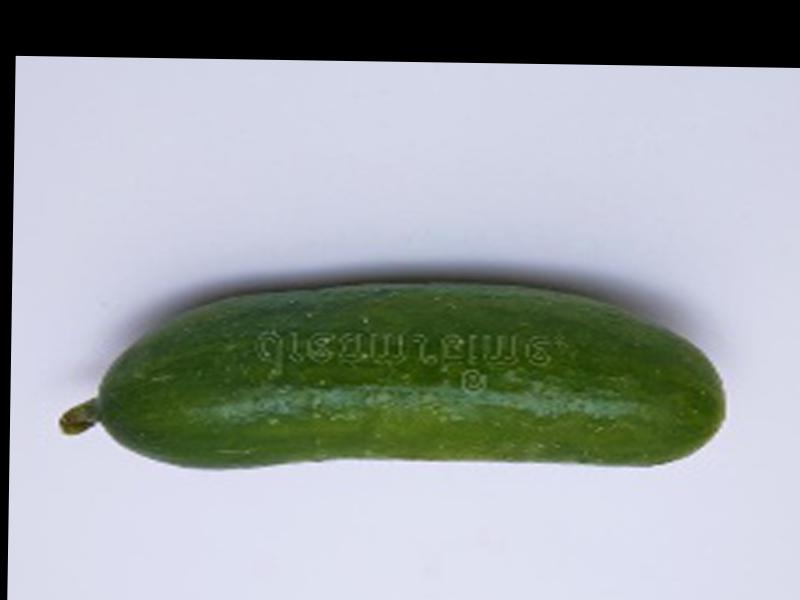Cucumber: (59, 275, 728, 476)
